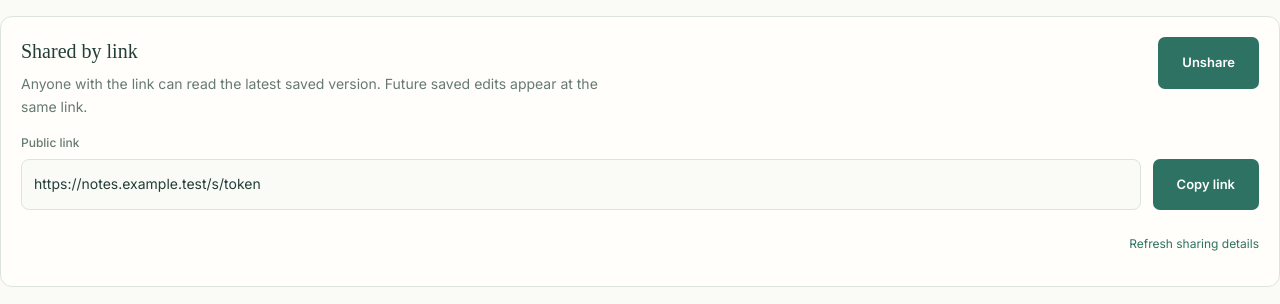
Scenario: clipboard rejection selects the link and offers a manual copy instruction
Click the button "Copy link".
click(1206, 184)  # box [1152, 158, 1259, 210]
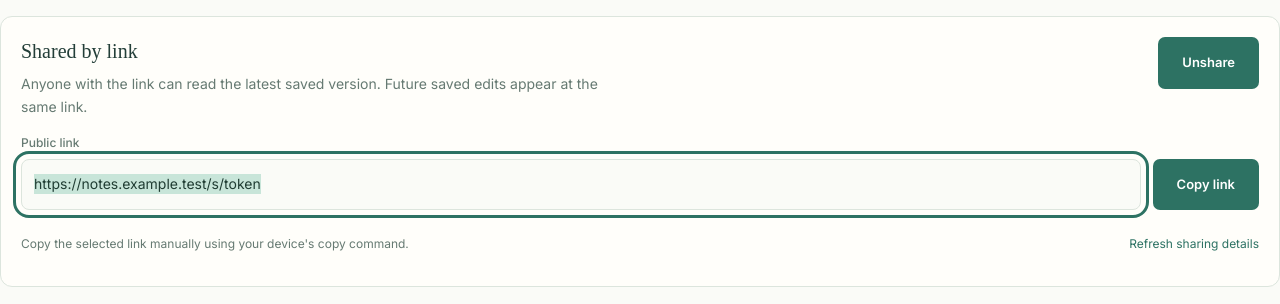
Expected: the message shows "Copy the selected link manually", [21, 236, 409, 251]
